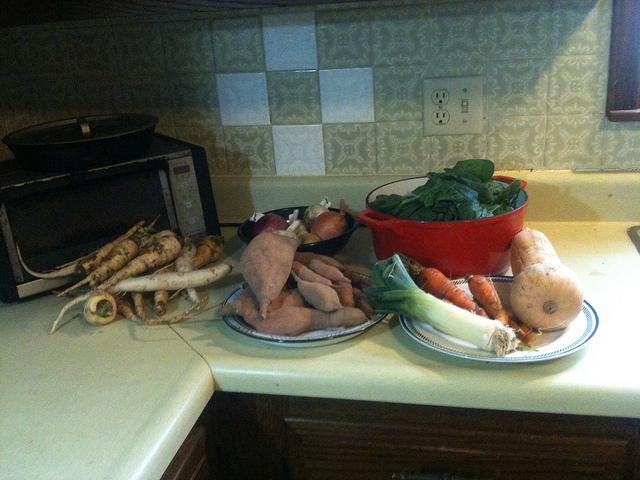carrot: (394, 250, 492, 320), (464, 272, 526, 336), (519, 325, 530, 335)
potato: (240, 232, 304, 319), (255, 306, 366, 337), (290, 269, 344, 312), (292, 260, 352, 288), (266, 288, 315, 313), (309, 259, 352, 284), (294, 252, 346, 271), (236, 286, 288, 302), (352, 288, 376, 320), (332, 281, 356, 307), (360, 280, 380, 287)
